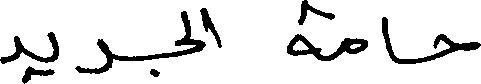X: (433, 29, 480, 64), (287, 0, 311, 60), (78, 34, 110, 78), (175, 5, 200, 61), (202, 3, 220, 54), (381, 12, 395, 67), (0, 31, 20, 68), (48, 27, 59, 79), (346, 33, 366, 58)
